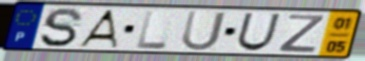A: (75, 9, 120, 49)
L: (135, 9, 170, 51)
S: (37, 6, 86, 49)
U: (179, 9, 229, 52), (234, 11, 283, 52)
Z: (276, 13, 328, 54)
